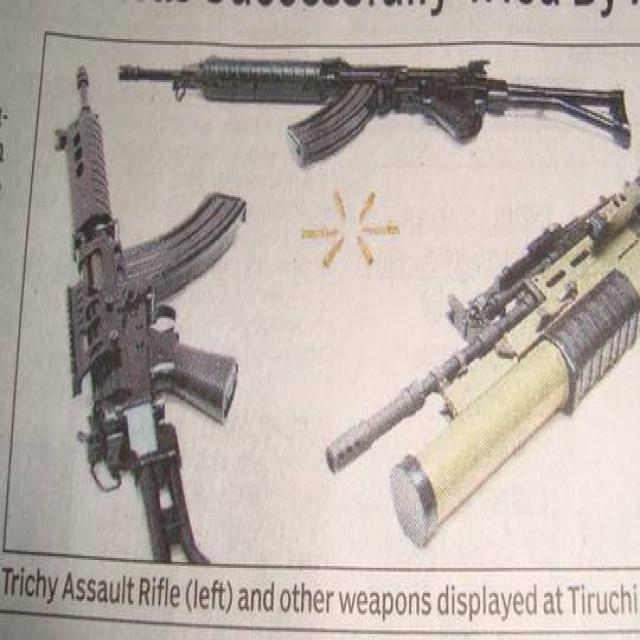Rifle: (52, 60, 246, 556), (120, 52, 637, 161)
